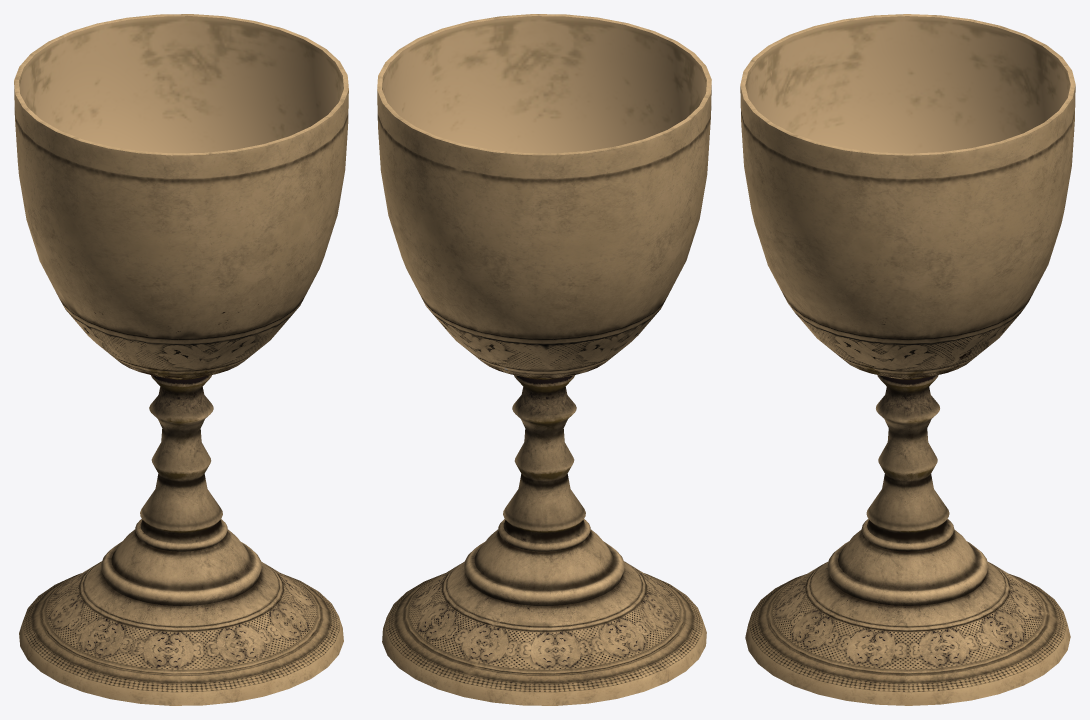
The model's file is Glass.fbx.
The picture shows the model from 3 angles, left to right: view 1: azimuth 30°, elevation 25°; view 2: azimuth 150°, elevation 25°; view 3: azimuth 270°, elevation 25°; orthographic projection.
Visible parts, largest first — view 1: brass_goblet_01; view 2: brass_goblet_01; view 3: brass_goblet_01.
Boxes of the visible parts, <box> form: brass_goblet_01: <box>14,14,348,705</box>; brass_goblet_01: <box>377,14,711,705</box>; brass_goblet_01: <box>740,14,1075,705</box>.
Bounding box in the file's own units: 9.9 × 18 × 9.9.
